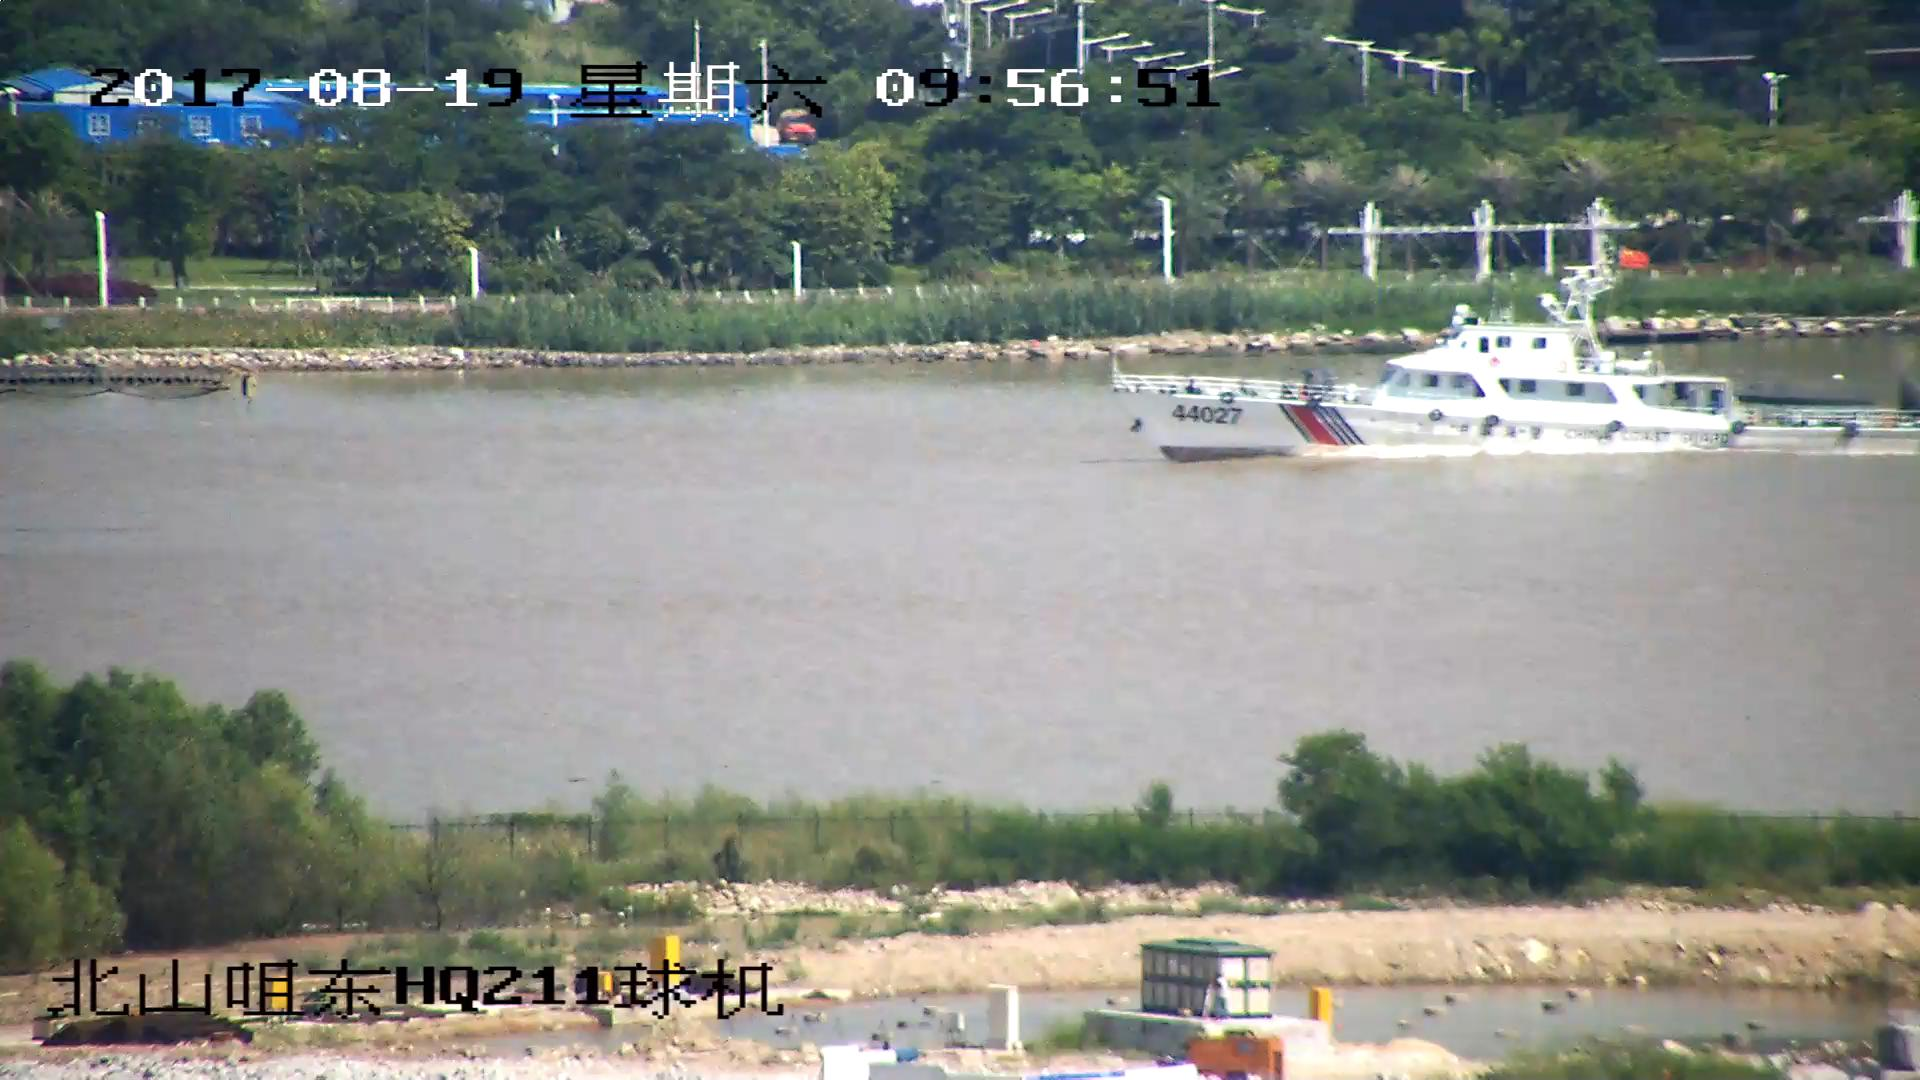passenger ship: (1112, 268, 1920, 459)
